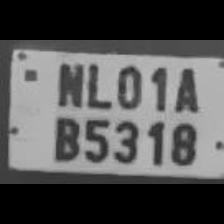0: (111, 60, 143, 108)
1: (143, 62, 169, 114), (140, 118, 168, 166)
3: (108, 116, 140, 164)
5: (80, 113, 110, 164)
8: (167, 118, 199, 164)
A: (168, 62, 200, 114)
B: (48, 113, 80, 162)
L: (82, 58, 110, 110)
N: (51, 56, 85, 107)
